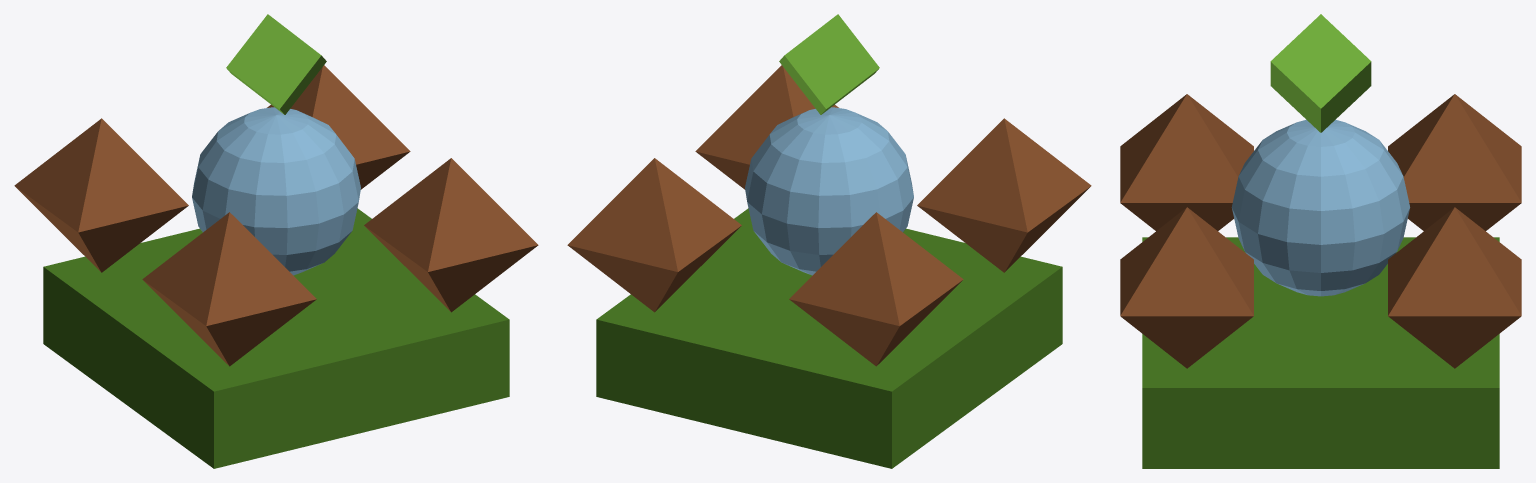
Rendered from MainBase.fbx.
3 views of the same model, side by side, from view 1: azimuth 30°, elevation 25°; view 2: azimuth 150°, elevation 25°; view 3: azimuth 270°, elevation 25° (orthographic). The views are drawn at different scales.
Visible parts, largest first — view 1: Base, piramids, centar sphere, top cube; view 2: Base, piramids, centar sphere, top cube; view 3: piramids, Base, centar sphere, top cube.
Part boxes in pixels (x1=…): Base: x1=43, y1=208, x2=509, y2=468; piramids: x1=14, y1=65, x2=538, y2=366; centar sphere: x1=192, y1=107, x2=360, y2=275; top cube: x1=226, y1=14, x2=326, y2=114; Base: x1=596, y1=208, x2=1062, y2=468; piramids: x1=567, y1=65, x2=1091, y2=366; centar sphere: x1=745, y1=107, x2=913, y2=275; top cube: x1=779, y1=14, x2=879, y2=114; piramids: x1=1120, y1=94, x2=1521, y2=368; Base: x1=1142, y1=237, x2=1499, y2=468; centar sphere: x1=1231, y1=119, x2=1410, y2=296; top cube: x1=1270, y1=14, x2=1371, y2=132.
Bounding box in the file's own units: 900 × 927 × 900.
